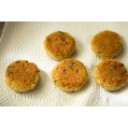cutlet: (51, 59, 88, 92), (5, 61, 41, 90), (95, 60, 127, 90), (93, 30, 123, 56), (46, 32, 75, 58)
